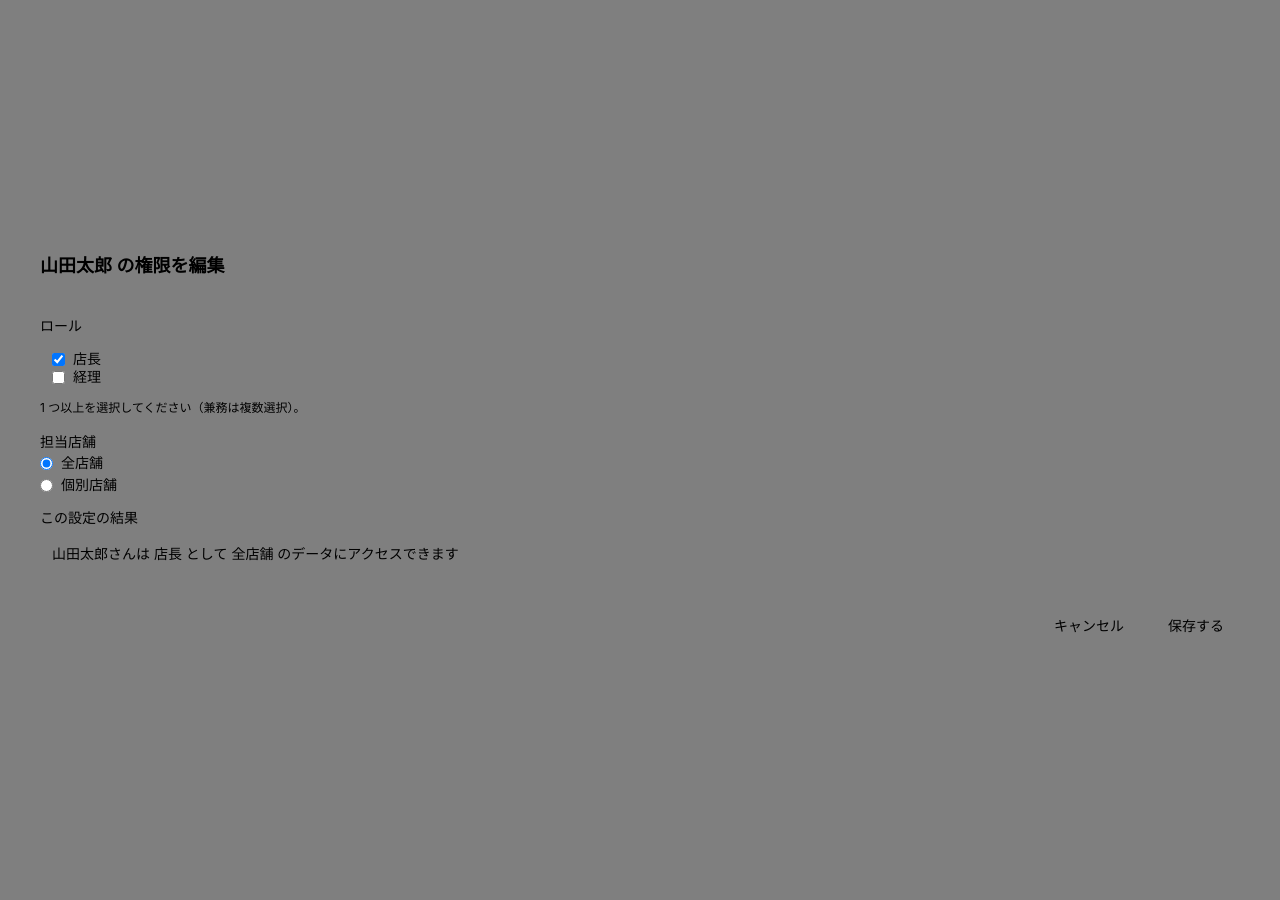
Scenario: 共通授権編集モーダル › 409 後の再取得失敗は置換警告を出さず領域内に表示する (404)
The image size is (1280, 900).
Click the button "保存する" at (1196, 626), box [1152, 608, 1240, 644]
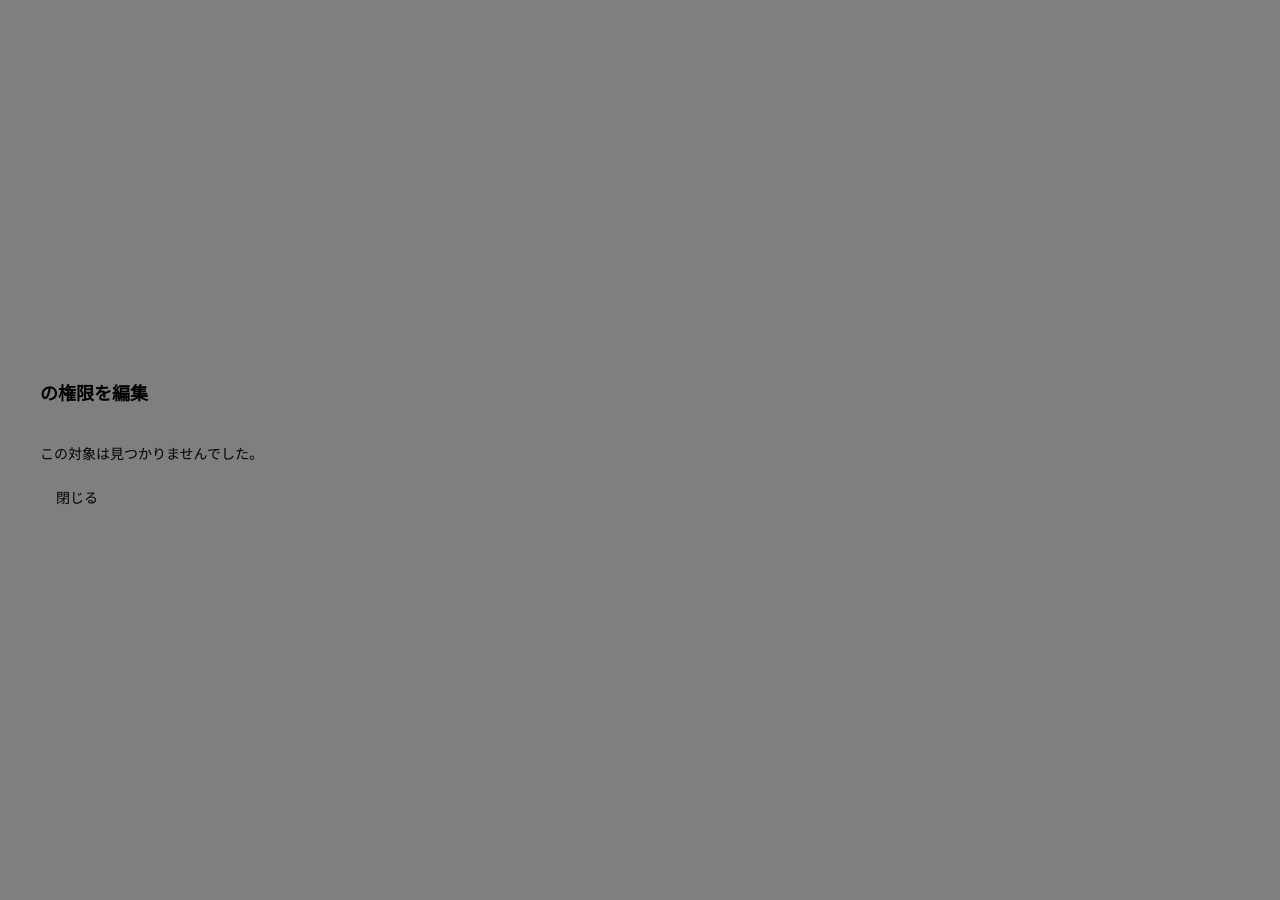
expect the message reads "この対象は見つかりませんでした。": met, box [40, 445, 263, 462]
expect the button "保存する" is gone: met
